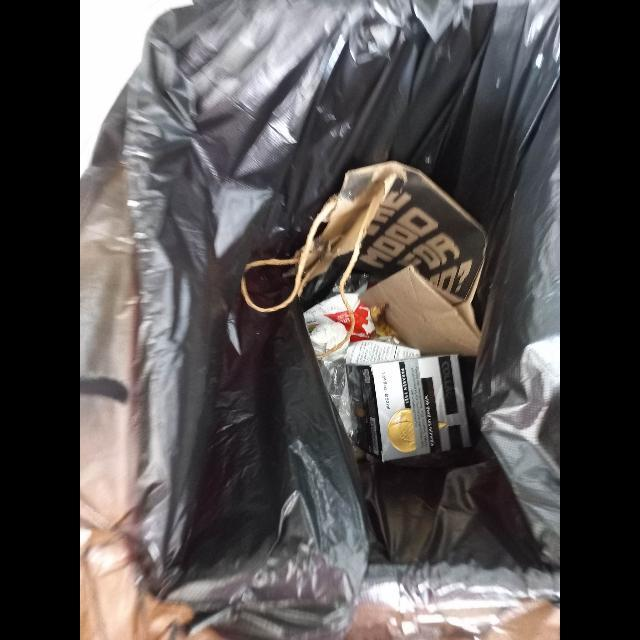paper: (236, 160, 489, 362), (349, 350, 471, 461), (348, 340, 421, 365)
plastic: (322, 348, 361, 437)
